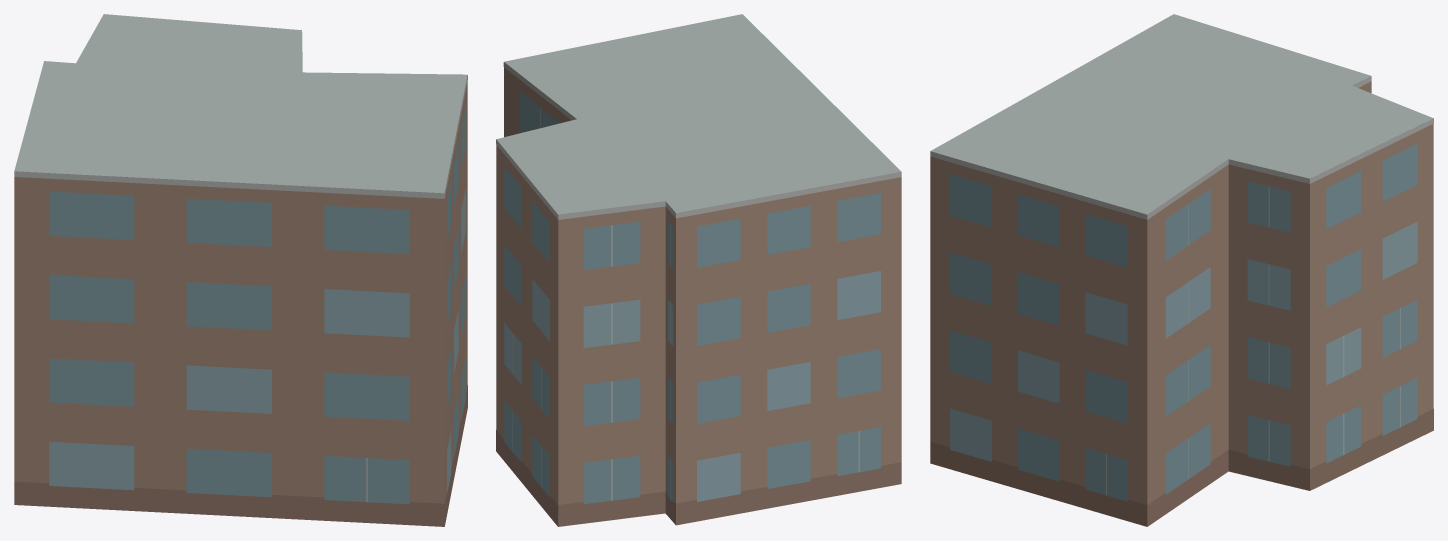
Rendered from survey-upis-32763886.glb.
The picture shows the model from 3 angles, left to right: view 1: azimuth 30°, elevation 25°; view 2: azimuth 150°, elevation 25°; view 3: azimuth 270°, elevation 25°; orthographic projection. The views are drawn at different scales.
Visible parts, largest first — view 1: survey-upis-32763886.tmp; view 2: survey-upis-32763886.tmp; view 3: survey-upis-32763886.tmp.
Boxes of the visible parts, x1,y1,x2,y2 form: survey-upis-32763886.tmp: [14, 14, 467, 526]; survey-upis-32763886.tmp: [496, 14, 901, 526]; survey-upis-32763886.tmp: [930, 14, 1433, 526].
Size of the model in its own units: 19.99 by 14.5 by 21.2.
